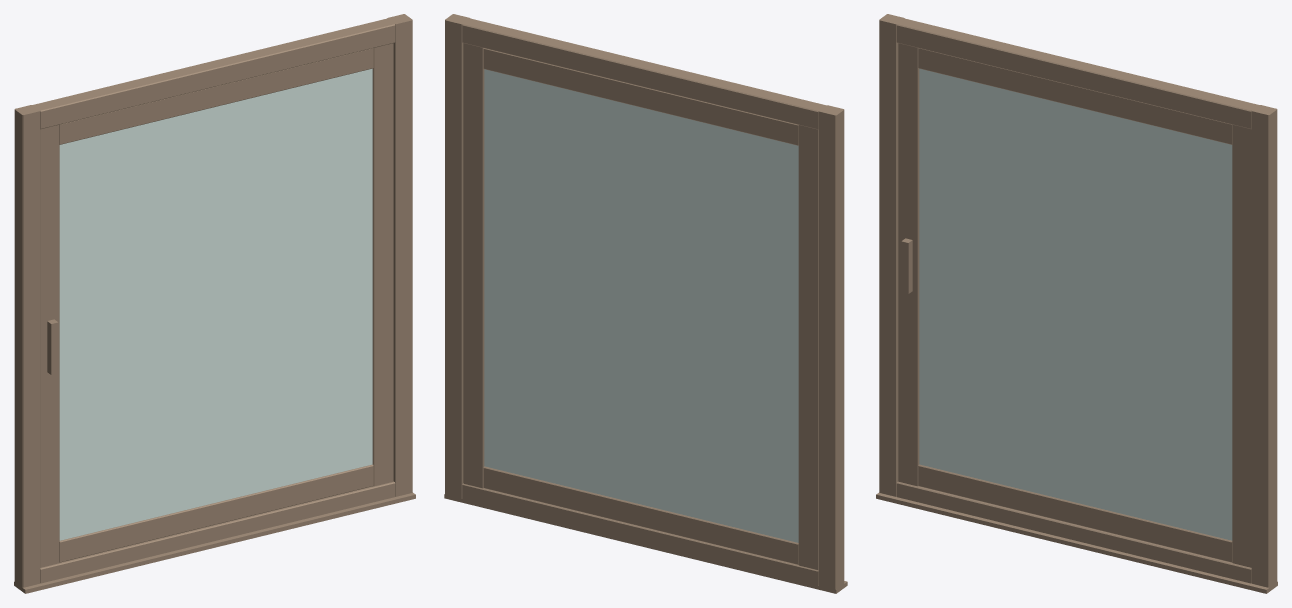
The model's file is bt-S46-1-ferme-quartz-1019.glb.
3 renders of one model, left to right at view 1: azimuth 30°, elevation 25°; view 2: azimuth 150°, elevation 25°; view 3: azimuth 330°, elevation 25°, orthographic.
Parts seen in each view (by area): view 1: verre, structure; view 2: verre, structure; view 3: verre, structure.
Boxes of the visible parts, <box> form: verre: <box>59,68,372,540</box>; structure: <box>14,14,415,593</box>; verre: <box>484,69,798,542</box>; structure: <box>444,14,847,593</box>; verre: <box>919,68,1232,540</box>; structure: <box>876,14,1277,593</box>.
Bounding box in the file's own units: 1.2 × 1.4 × 0.0618.
